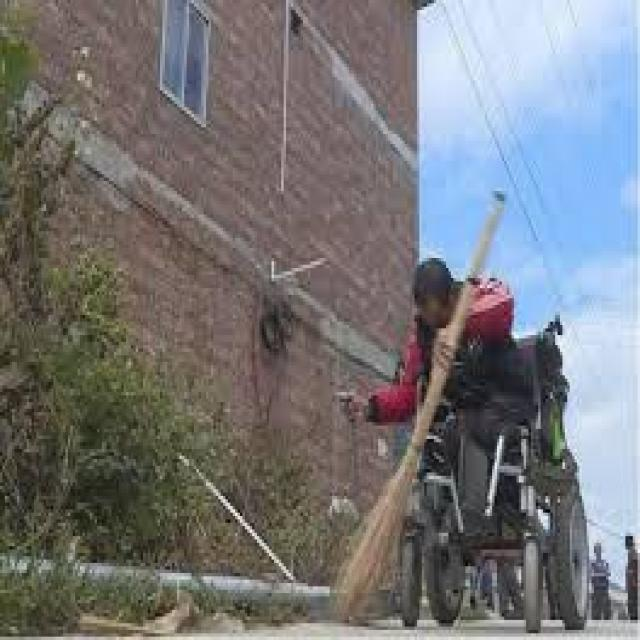wheelchairs: (398, 308, 606, 637)
